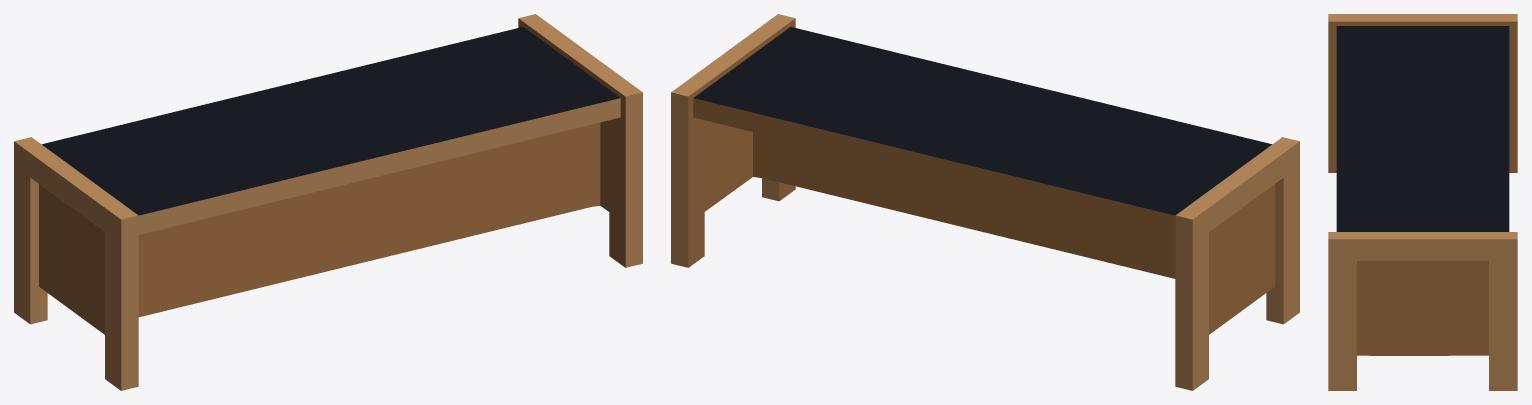
The model's file is Queue.glb.
3 renders of one model, left to right at view 1: azimuth 30°, elevation 25°; view 2: azimuth 150°, elevation 25°; view 3: azimuth 270°, elevation 25°, orthographic. The views are drawn at different scales.
Visible parts, largest first — view 1: Queue; view 2: Queue; view 3: Queue.
Boxes of the visible parts, box(x1,y1,x2,y2) form: Queue: box(14, 14, 642, 390); Queue: box(671, 14, 1299, 390); Queue: box(1328, 14, 1517, 390).
Bounding box in the file's own units: 3.28 × 1.03 × 1.17.
1 material, 1 textured.
